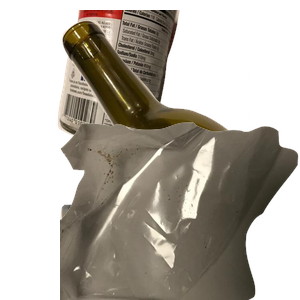glass: (60, 18, 300, 198)
metal: (55, 10, 227, 149)
plastic: (59, 193, 241, 300)
trash: (60, 120, 300, 300)
